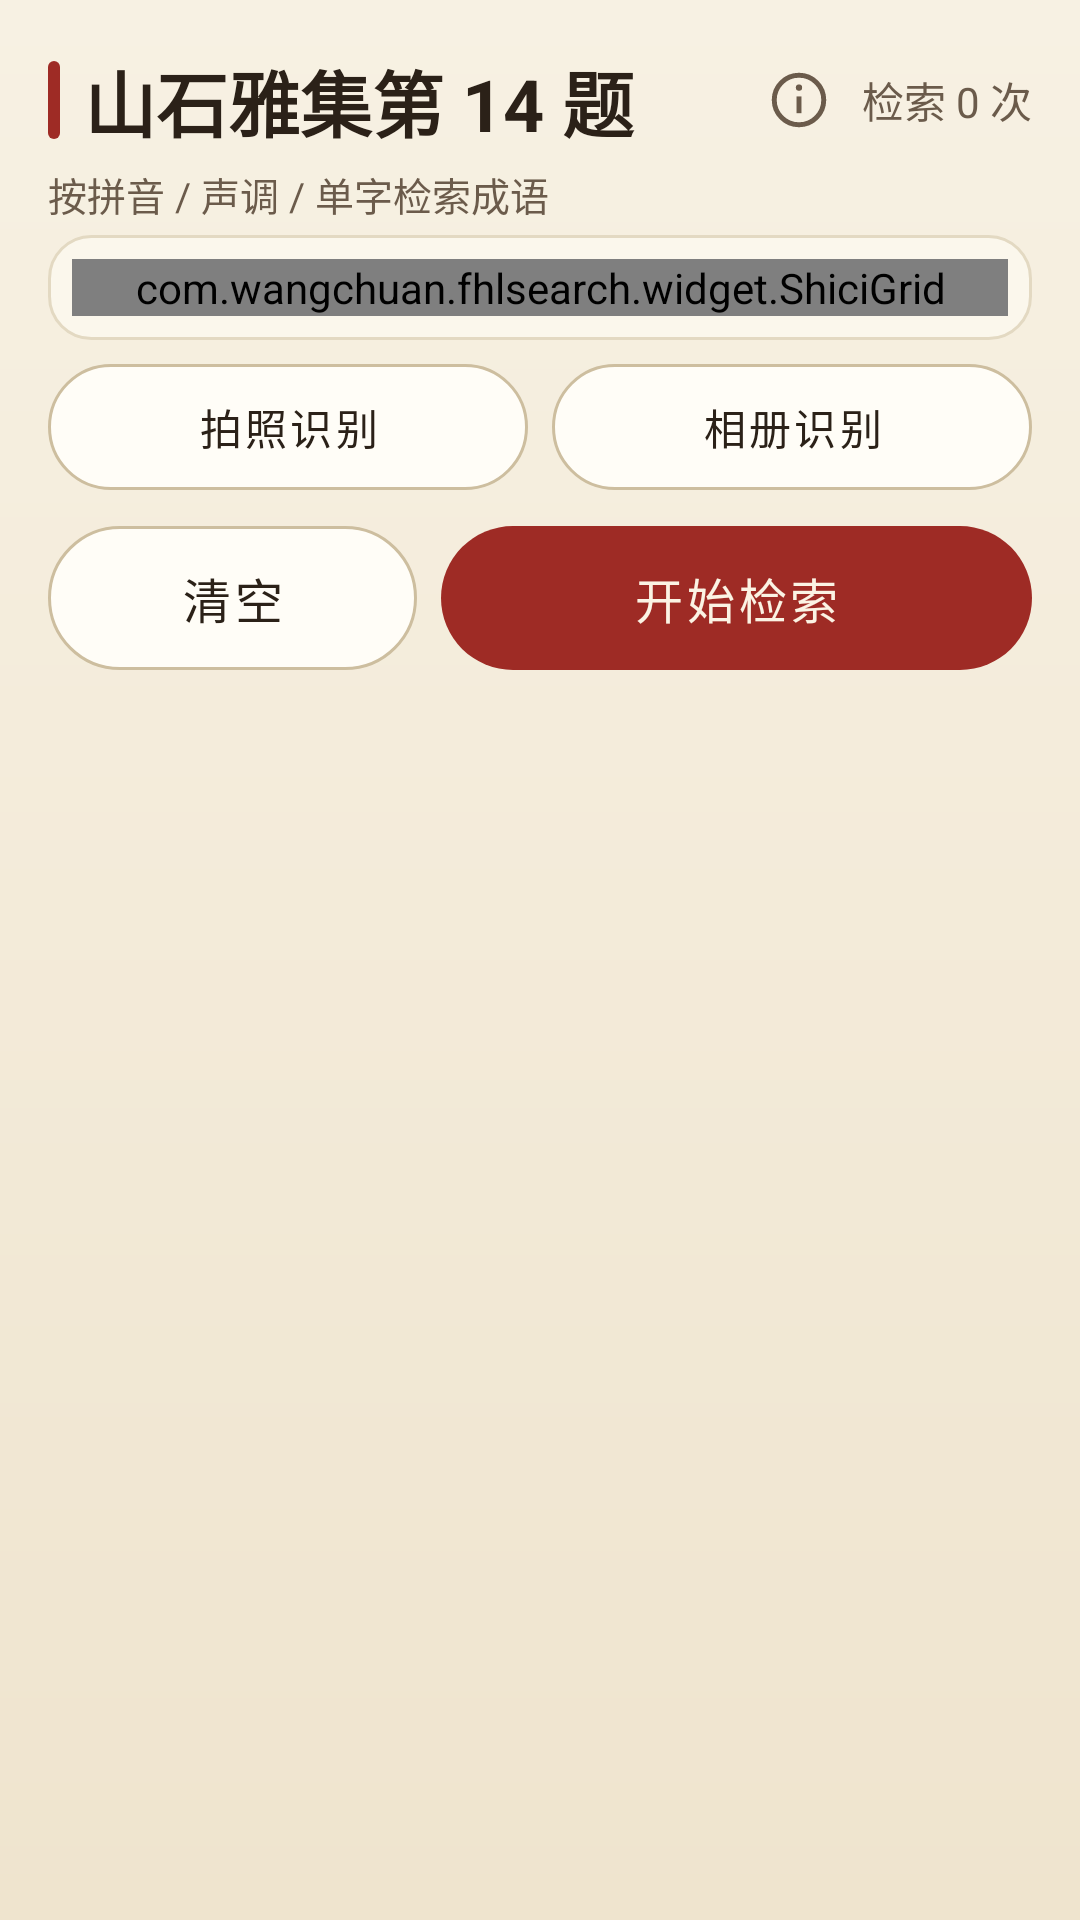

Icon bounding boxes for this 1080px x 1920px phone screenshot, format (x1=x1, y1=y1, x2=x2, y2=y2):
信息: (x1=771, y1=72, x2=827, y2=128)
